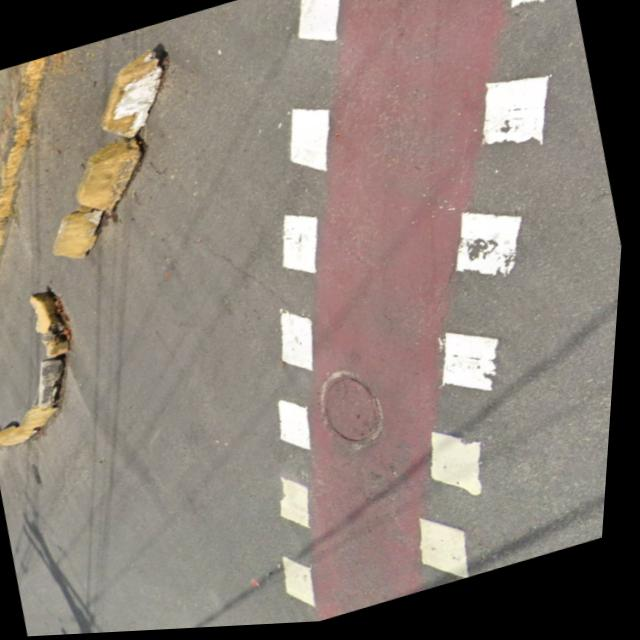Bueiro: (305, 357, 423, 473)
